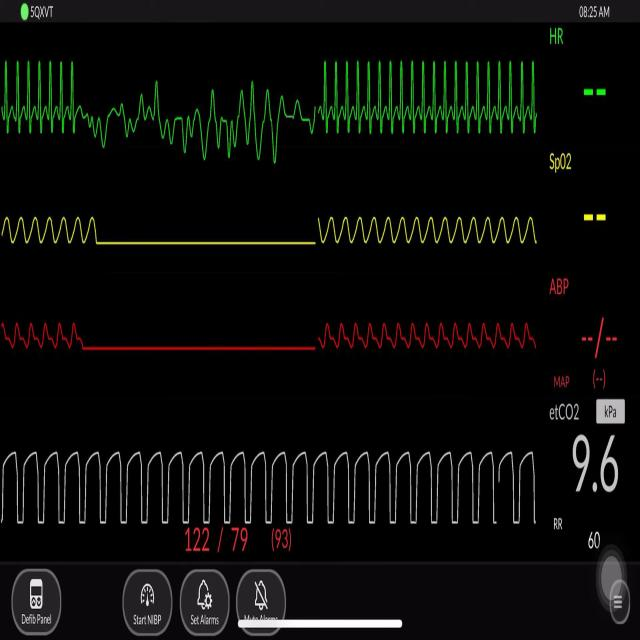danger: (318, 39, 545, 148), (0, 47, 85, 151)
